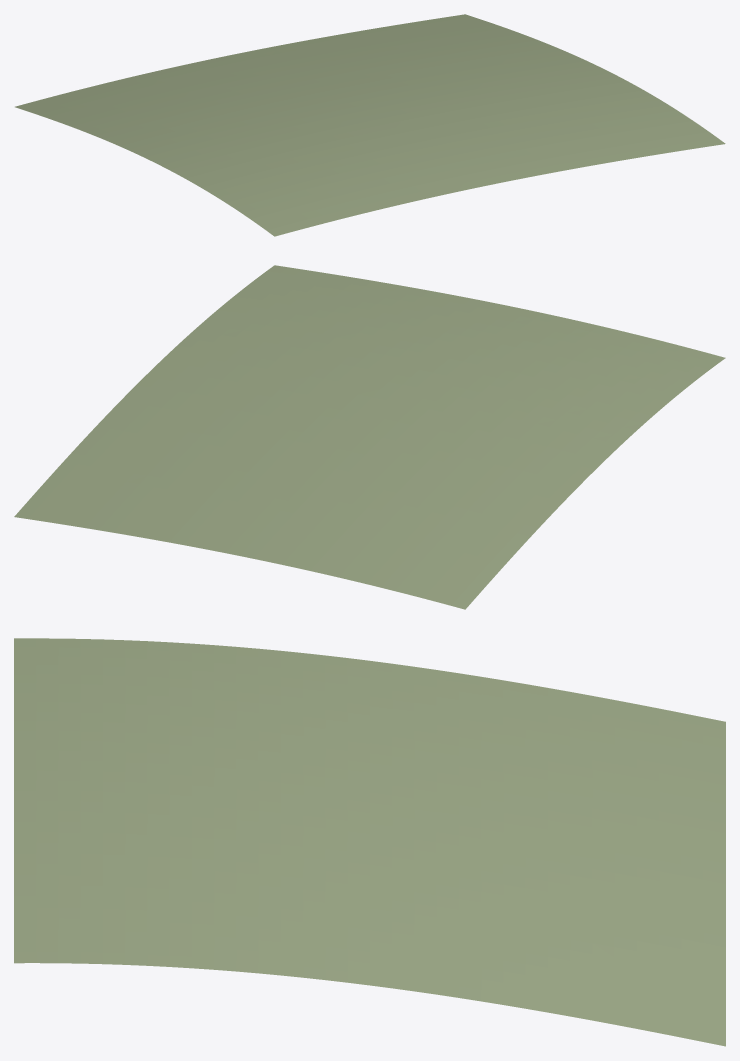
File: valley-2-0.glb
3 views of the same model, one above another, from view 1: azimuth 30°, elevation 25°; view 2: azimuth 150°, elevation 25°; view 3: azimuth 270°, elevation 25° (orthographic). The views are drawn at different scales.
Parts seen in each view (by area): view 1: valley-2-0; view 2: valley-2-0; view 3: valley-2-0.
Boxes of the visible parts, box(x1,y1,x2,y2) form: valley-2-0: box(15, 14, 725, 236); valley-2-0: box(14, 265, 725, 609); valley-2-0: box(14, 638, 725, 1046).
Size of the model in its own units: 256 by 43.34 by 256.
